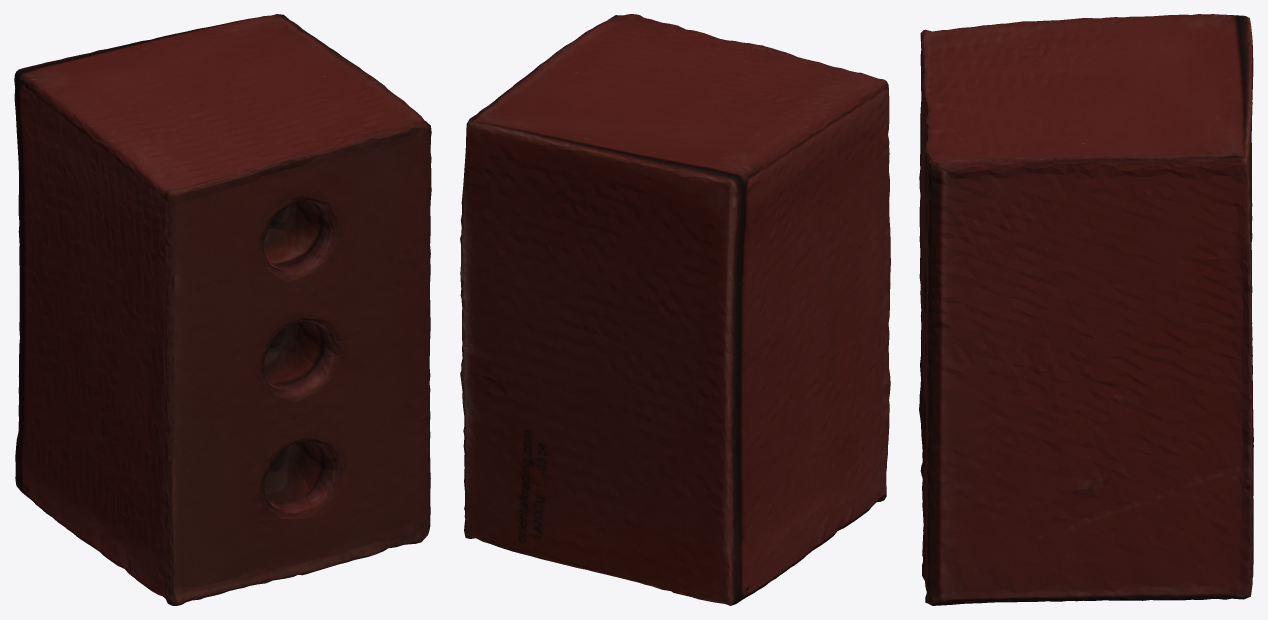
3 views of the same model, side by side, from view 1: azimuth 30°, elevation 25°; view 2: azimuth 150°, elevation 25°; view 3: azimuth 270°, elevation 25° (orthographic). The views are drawn at different scales.
Bounding box in the file's own units: 0.052 × 0.0776 × 0.0512.
